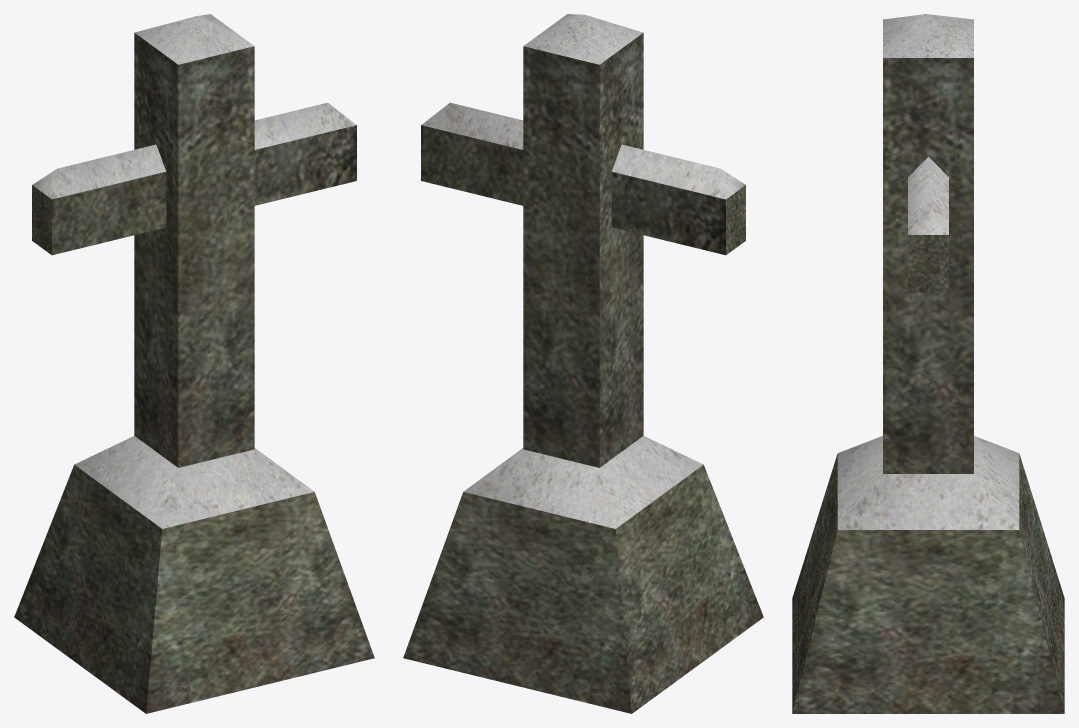
Rendered from tombstone_sm_07_snow.fbx.
3 renders of one model, left to right at view 1: azimuth 30°, elevation 25°; view 2: azimuth 150°, elevation 25°; view 3: azimuth 270°, elevation 25°, orthographic. The views are drawn at different scales.
Visible parts, largest first — view 1: mesh_2, mesh_0, mesh_4, mesh_3, mesh_5, mesh_1; view 2: mesh_2, mesh_0, mesh_4, mesh_3, mesh_5, mesh_1; view 3: mesh_2, mesh_0, mesh_3, mesh_1, mesh_5, mesh_4.
Boxes of the visible parts, left/top/right/bottom form: mesh_2: left=14, top=464, right=374, bottom=713; mesh_0: left=134, top=33, right=254, bottom=467; mesh_4: left=32, top=125, right=356, bottom=255; mesh_3: left=74, top=436, right=314, bottom=528; mesh_5: left=32, top=102, right=356, bottom=199; mesh_1: left=134, top=14, right=254, bottom=64; mesh_2: left=403, top=464, right=763, bottom=713; mesh_0: left=523, top=33, right=643, bottom=467; mesh_4: left=421, top=125, right=745, bottom=255; mesh_3: left=463, top=436, right=703, bottom=528; mesh_5: left=421, top=102, right=745, bottom=199; mesh_1: left=523, top=14, right=643, bottom=64; mesh_2: left=792, top=454, right=1064, bottom=713; mesh_0: left=883, top=58, right=973, bottom=473; mesh_3: left=837, top=436, right=1019, bottom=529; mesh_1: left=883, top=14, right=973, bottom=57; mesh_5: left=908, top=157, right=948, bottom=234; mesh_4: left=908, top=235, right=948, bottom=292.
Size of the model in its own units: 80 by 156 by 60.
Materials: 2 (2 with a texture image).
